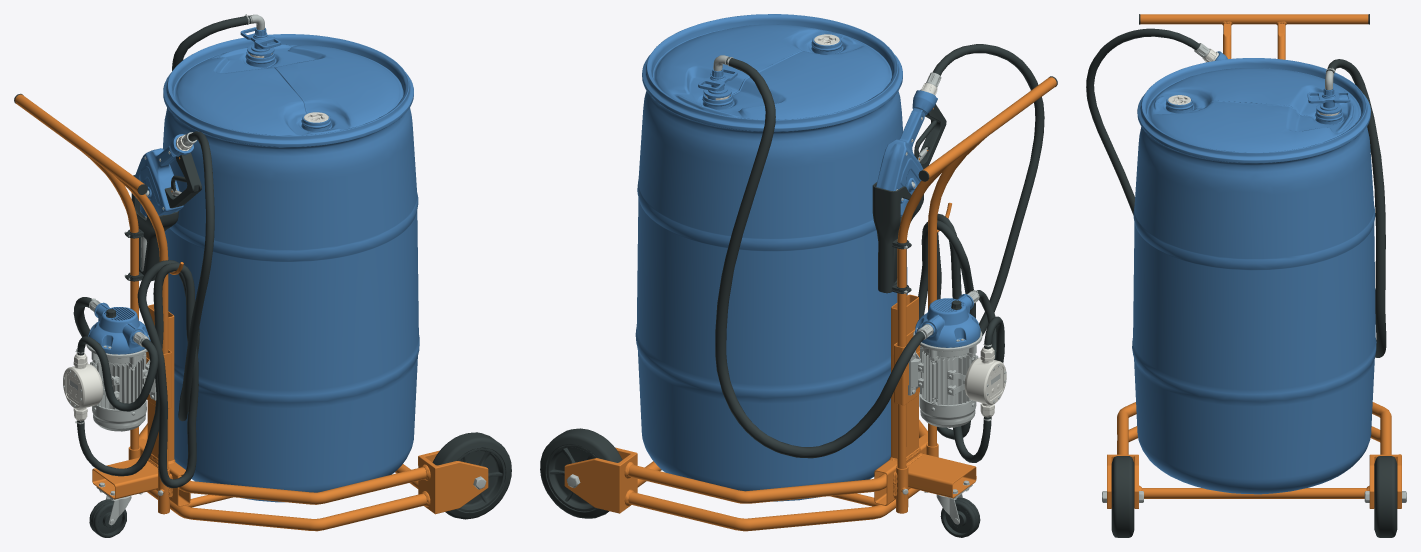
The model's file is serviceTool_dispensing_system_c01.glb.
3 renders of one model, left to right at view 1: azimuth 30°, elevation 25°; view 2: azimuth 150°, elevation 25°; view 3: azimuth 270°, elevation 25°, orthographic. The views are drawn at different scales.
Size of the model in its own units: 0.8534 by 0.9978 by 0.697.
